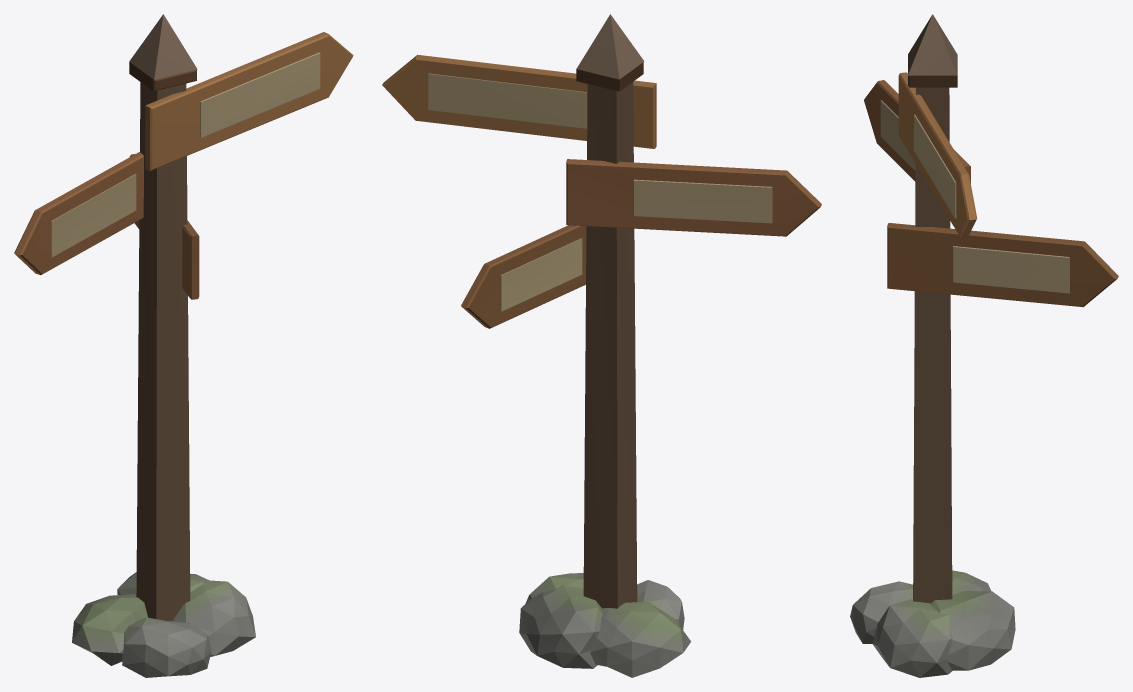
File: wooden_signpost_01.glb
3 views of the same model, side by side, from view 1: azimuth 30°, elevation 25°; view 2: azimuth 150°, elevation 25°; view 3: azimuth 270°, elevation 25° (orthographic).
Parts seen in each view (by area): view 1: wooden_signpost_01_wood, wooden_signpost_01_rocks; view 2: wooden_signpost_01_wood, wooden_signpost_01_rocks; view 3: wooden_signpost_01_wood, wooden_signpost_01_rocks.
Boxes of the visible parts, left/top/right/bottom form: wooden_signpost_01_wood: left=14, top=14, right=353, bottom=620; wooden_signpost_01_rocks: left=72, top=572, right=255, bottom=677; wooden_signpost_01_wood: left=382, top=14, right=821, bottom=608; wooden_signpost_01_rocks: left=519, top=573, right=691, bottom=677; wooden_signpost_01_wood: left=864, top=14, right=1118, bottom=603; wooden_signpost_01_rocks: left=850, top=570, right=1015, bottom=677.
Bounding box in the file's own units: 1.35 × 2.12 × 0.8113.
